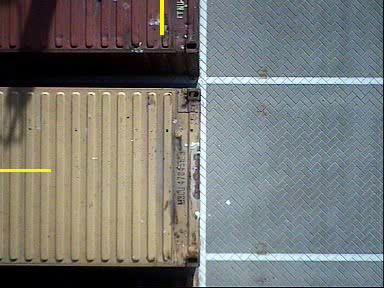groundmarker_2: (205, 137, 247, 195), (205, 1, 228, 43)
